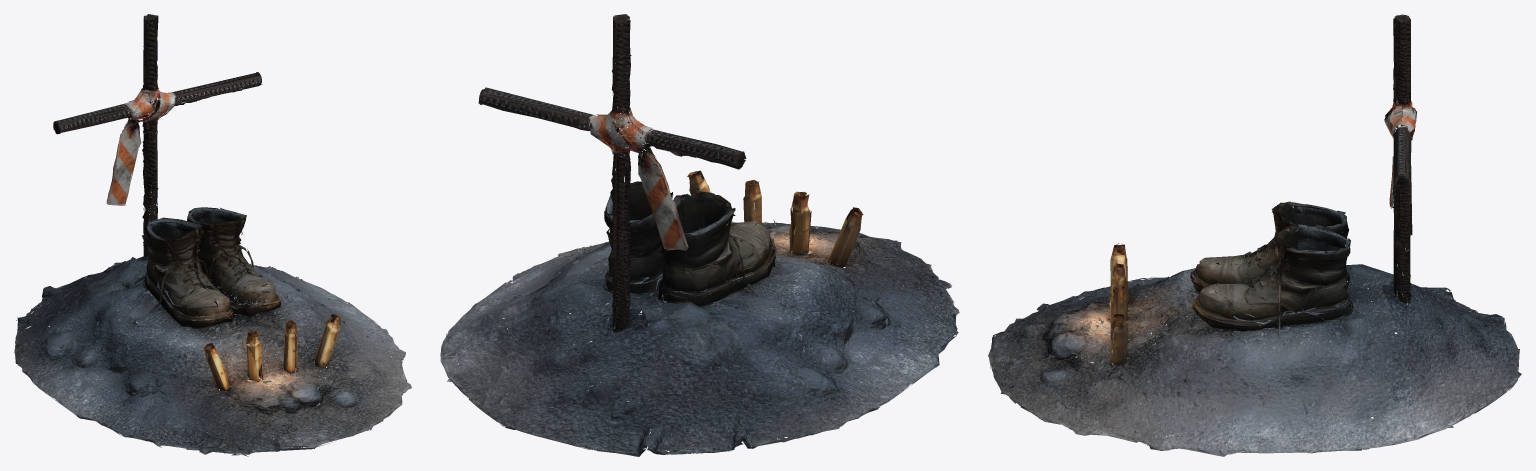
Rendered from prop_camp_grave_fresh.glb.
3 renders of one model, left to right at view 1: azimuth 30°, elevation 25°; view 2: azimuth 150°, elevation 25°; view 3: azimuth 270°, elevation 25°, orthographic. The views are drawn at different scales.
Visible parts, largest first — view 1: node_0; view 2: node_0; view 3: node_0.
Boxes of the visible parts, x1=… form: node_0: x1=14, y1=14, x2=411, y2=456; node_0: x1=440, y1=14, x2=959, y2=456; node_0: x1=988, y1=14, x2=1521, y2=456.
Bounding box in the file's own units: 0.7962 × 0.7097 × 0.981.
Materials: 1 (1 with a texture image).
